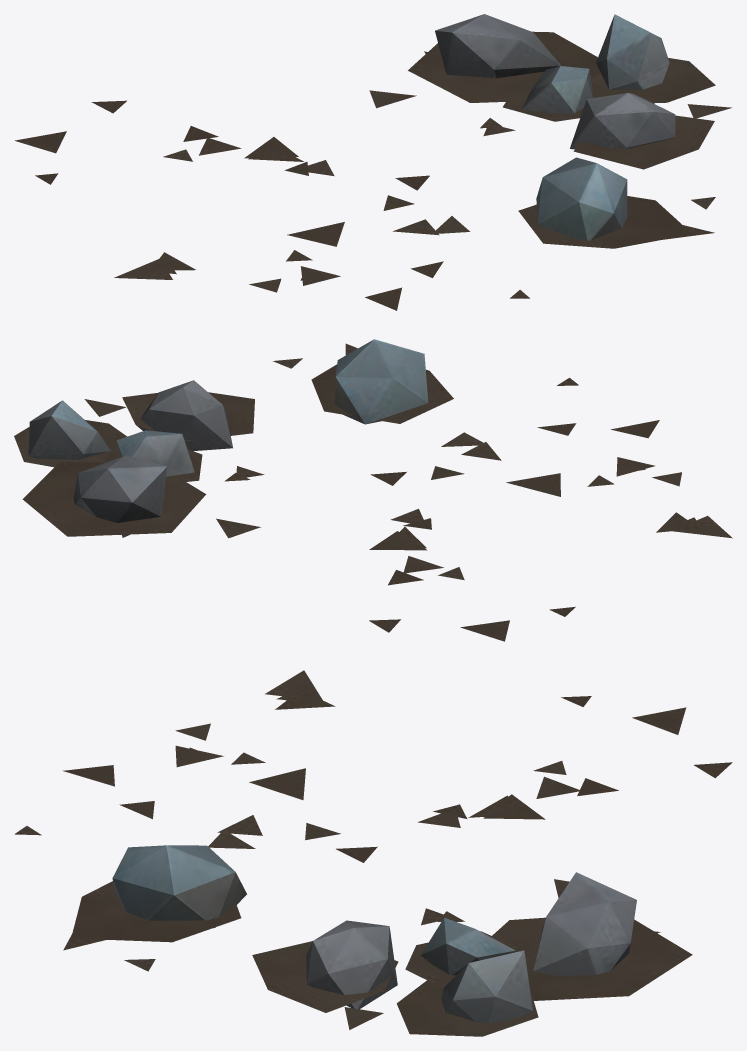
Rendered from iron-ore-sparse.glb.
The picture shows the model from 3 angles, top to bottom: view 1: azimuth 30°, elevation 25°; view 2: azimuth 150°, elevation 25°; view 3: azimuth 270°, elevation 25°; orthographic projection. The views are drawn at different scales.
Parts seen in each view (by area): view 1: iron-ore-sparse; view 2: iron-ore-sparse; view 3: iron-ore-sparse.
Boxes of the visible parts, x1=… form: iron-ore-sparse: x1=15, y1=14, x2=731, y2=310; iron-ore-sparse: x1=14, y1=339, x2=732, y2=641; iron-ore-sparse: x1=14, y1=670, x2=732, y2=1036.
Bounding box in the file's own units: 1.38 × 0.1474 × 1.14.
Materials: 1 (1 with a texture image).
